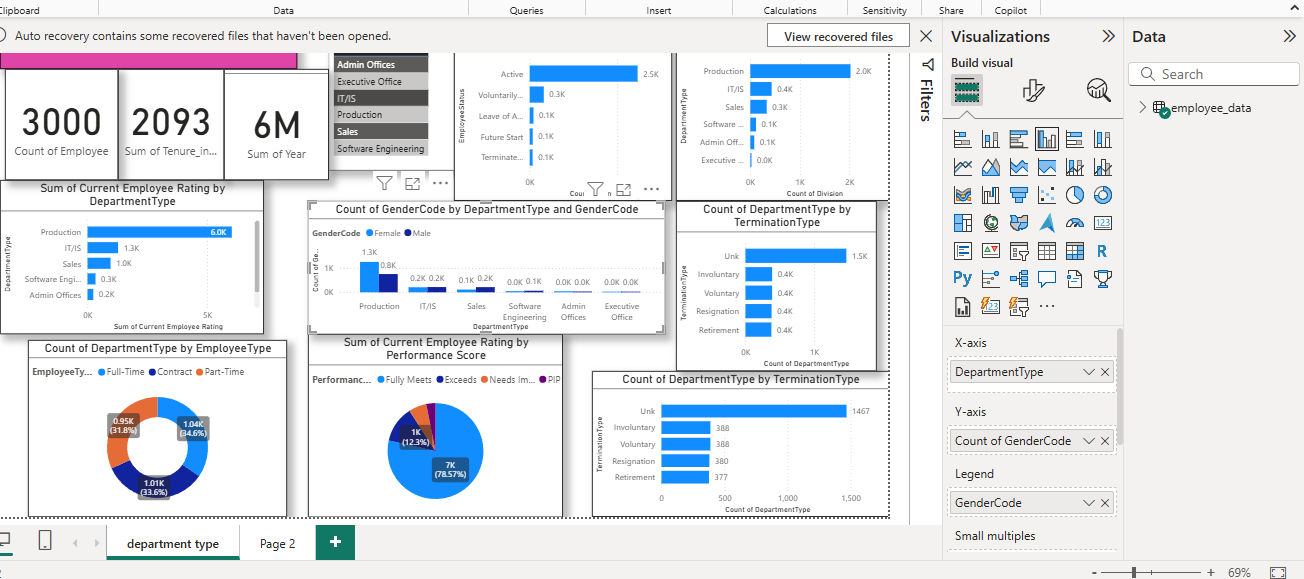

This screenshot's page, from the dashboard's own definition file:
{"tool":"powerbi","page":{"name":"department type","canvas":[1280,720],"ordinal":0},"visuals":[{"type":"textbox","box":[0,0,427.7,74.9],"z":0},{"type":"pieChart","fields":{"Category":["employee_data.Performance Score"],"Y":["Sum(employee_data.Current Employee Rating)"]},"box":[443.5,456.5,367.2,263.5],"z":1000},{"type":"clusteredBarChart","fields":{"Category":["employee_data.DepartmentType"],"Y":["Sum(employee_data.Current Employee Rating)"]},"box":[0,234.7,380.2,221.8],"z":2000},{"type":"tableEx","fields":{"Values":["employee_data.DepartmentType"]},"box":[473.8,18.7,180,201.6],"z":3000},{"type":"card","fields":{"Values":["Sum(employee_data.Tenure_inyear)"]},"box":[169.9,74.9,152.6,159.8],"z":4000},{"type":"clusteredBarChart","fields":{"Category":["employee_data.EmployeeStatus"],"Y":["CountNonNull(employee_data.Tenure)"]},"box":[653.8,18.7,313.9,246.2],"z":5000},{"type":"clusteredColumnChart","fields":{"Category":["employee_data.DepartmentType"],"Y":["CountNonNull(employee_data.GenderCode)"],"Series":["employee_data.GenderCode"]},"box":[443.5,265,514.1,191.5],"z":6000},{"type":"clusteredBarChart","fields":{"Category":["employee_data.TerminationType"],"Y":["CountNonNull(employee_data.DepartmentType)"]},"box":[852.5,509.8,427.7,210.2],"z":7000},{"type":"donutChart","fields":{"Y":["CountNonNull(employee_data.DepartmentType)"],"Category":["employee_data.EmployeeType"]},"box":[40.3,465.1,373,254.9],"z":8000},{"type":"barChart","fields":{"Category":["employee_data.DepartmentType"],"Y":["CountNonNull(employee_data.Division)"]},"box":[973.4,18.7,306.7,246.2],"z":9000},{"type":"clusteredBarChart","fields":{"Category":["employee_data.TerminationType"],"Y":["CountNonNull(employee_data.DepartmentType)"]},"box":[973.4,265,289.4,244.8],"z":10000},{"type":"card","fields":{"Values":["CountNonNull(employee_data.EmpID)"]},"box":[7.2,74.9,162.7,159.8],"z":10001},{"type":"card","fields":{"Values":["Sum(employee_data.Year)"]},"box":[322.6,74.9,151.2,159.8],"z":10003}]}

Visuals, with their boxes on the page's 1280x720 design canvas (x1, y1, x2, y2). These are canvas units, not pixel positions in the 1304x579 screenshot, which may show the page scaled, cropped or inside an application window:
textbox: crop(0, 0, 428, 75)
pieChart - employee_data.Performance Score x Sum(employee_data.Current Employee Rating): crop(444, 456, 811, 720)
clusteredBarChart - employee_data.DepartmentType x Sum(employee_data.Current Employee Rating): crop(0, 235, 380, 456)
tableEx - employee_data.DepartmentType: crop(474, 19, 654, 220)
card - Sum(employee_data.Tenure_inyear): crop(170, 75, 322, 235)
clusteredBarChart - employee_data.EmployeeStatus x CountNonNull(employee_data.Tenure): crop(654, 19, 968, 265)
clusteredColumnChart - employee_data.DepartmentType x CountNonNull(employee_data.GenderCode): crop(444, 265, 958, 456)
clusteredBarChart - employee_data.TerminationType x CountNonNull(employee_data.DepartmentType): crop(852, 510, 1280, 720)
donutChart - CountNonNull(employee_data.DepartmentType) x employee_data.EmployeeType: crop(40, 465, 413, 720)
barChart - employee_data.DepartmentType x CountNonNull(employee_data.Division): crop(973, 19, 1280, 265)
clusteredBarChart - employee_data.TerminationType x CountNonNull(employee_data.DepartmentType): crop(973, 265, 1263, 510)
card - CountNonNull(employee_data.EmpID): crop(7, 75, 170, 235)
card - Sum(employee_data.Year): crop(323, 75, 474, 235)
